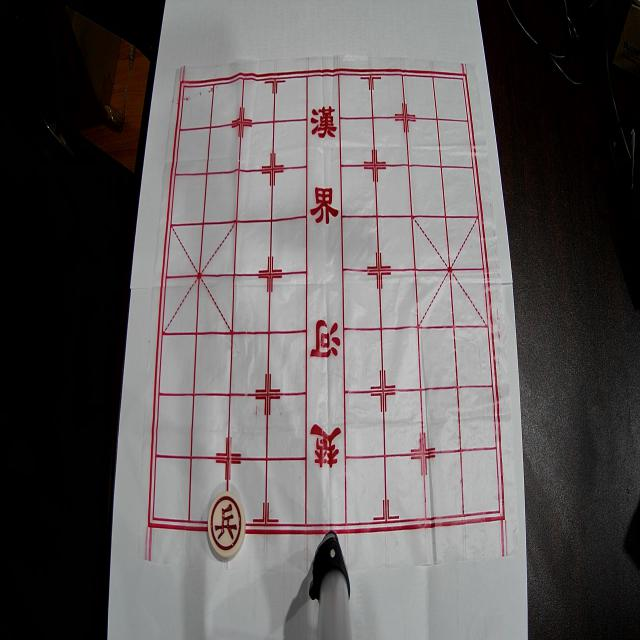red-soldier: (208, 491, 246, 558)
